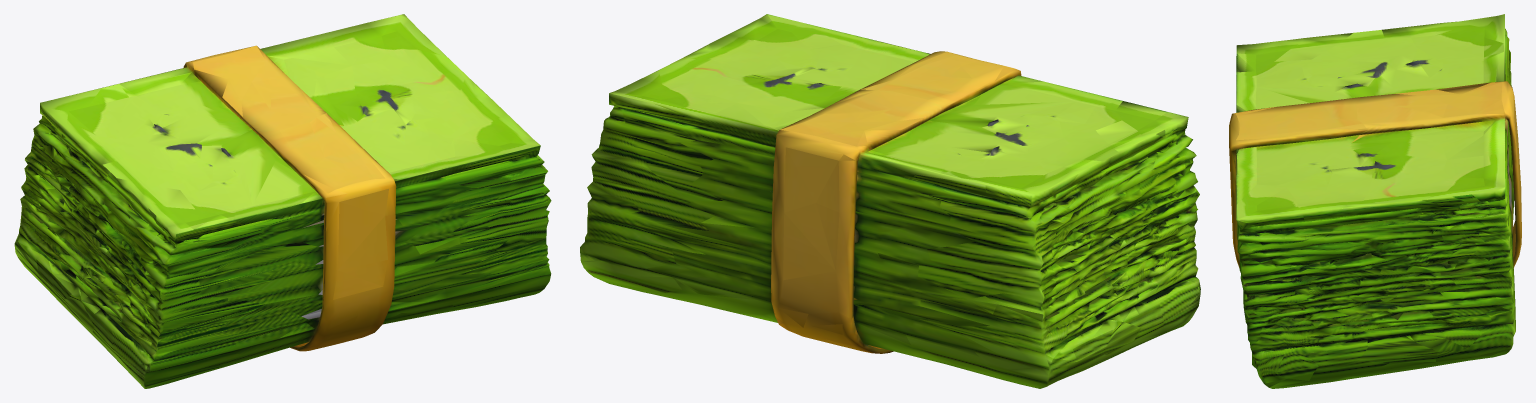
File: money.fbx
The picture shows the model from 3 angles, left to right: view 1: azimuth 30°, elevation 25°; view 2: azimuth 150°, elevation 25°; view 3: azimuth 270°, elevation 25°; orthographic projection. The views are drawn at different scales.
Parts seen in each view (by area): view 1: tripo_node_62c7cee6; view 2: tripo_node_62c7cee6; view 3: tripo_node_62c7cee6.
Boxes of the visible parts, x1,y1,x2,y2 form: tripo_node_62c7cee6: [14, 14, 551, 388]; tripo_node_62c7cee6: [580, 14, 1200, 388]; tripo_node_62c7cee6: [1229, 14, 1521, 388].
Size of the model in its own units: 100 by 50.28 by 63.45.
Materials: 1 (1 with a texture image).
